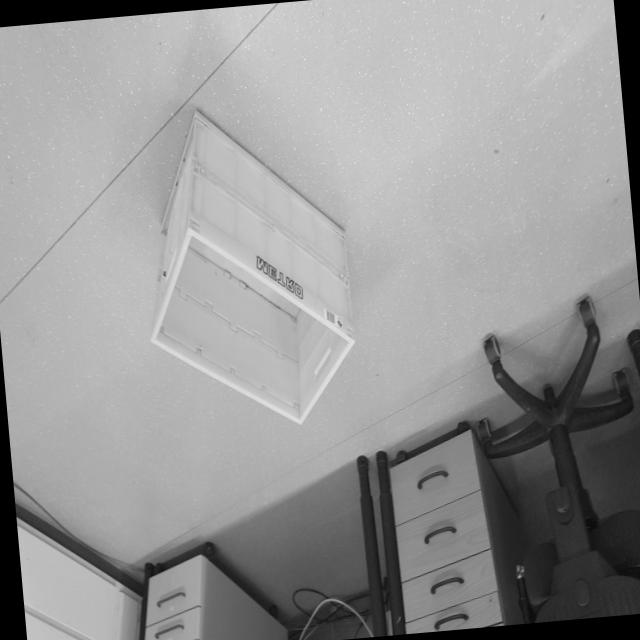box: (113, 71, 378, 458)
